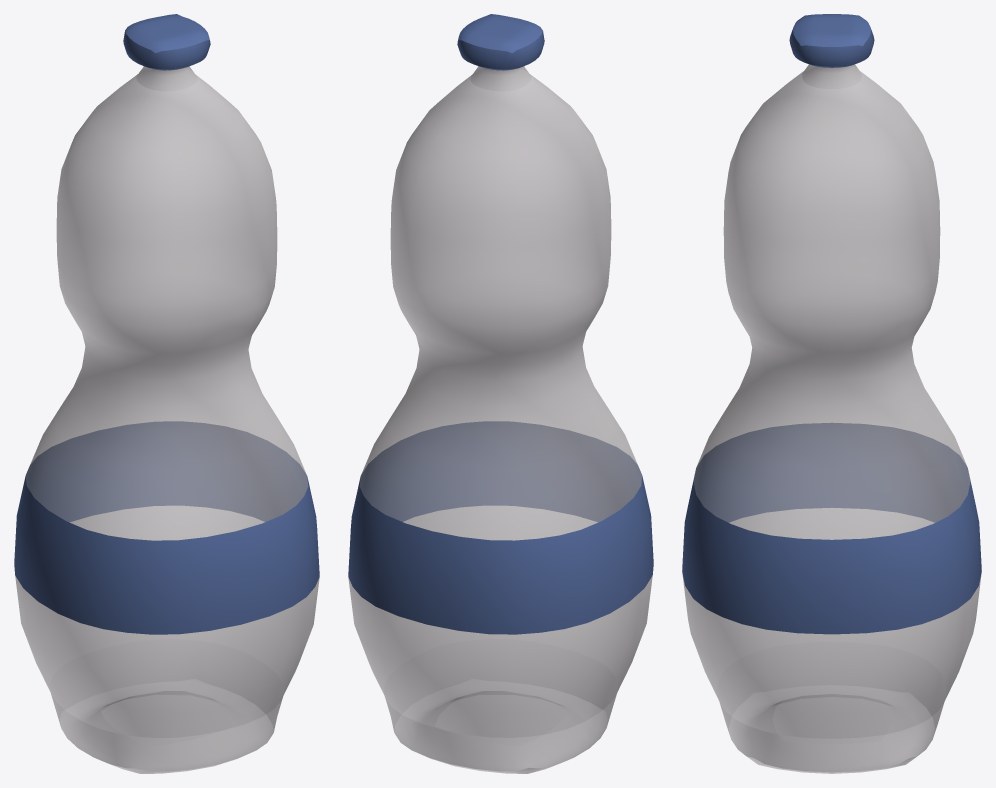
The model's file is bepis.fbx.
3 views of the same model, side by side, from view 1: azimuth 30°, elevation 25°; view 2: azimuth 150°, elevation 25°; view 3: azimuth 270°, elevation 25° (orthographic).
Visible parts, largest first — view 1: Soda; view 2: Soda; view 3: Soda.
Part boxes in pixels (x1,y1,x2,y2): Soda: (14,14,319,773); Soda: (348,14,653,773); Soda: (682,14,981,773).
Size of the model in its own units: 229 by 596 by 229.
